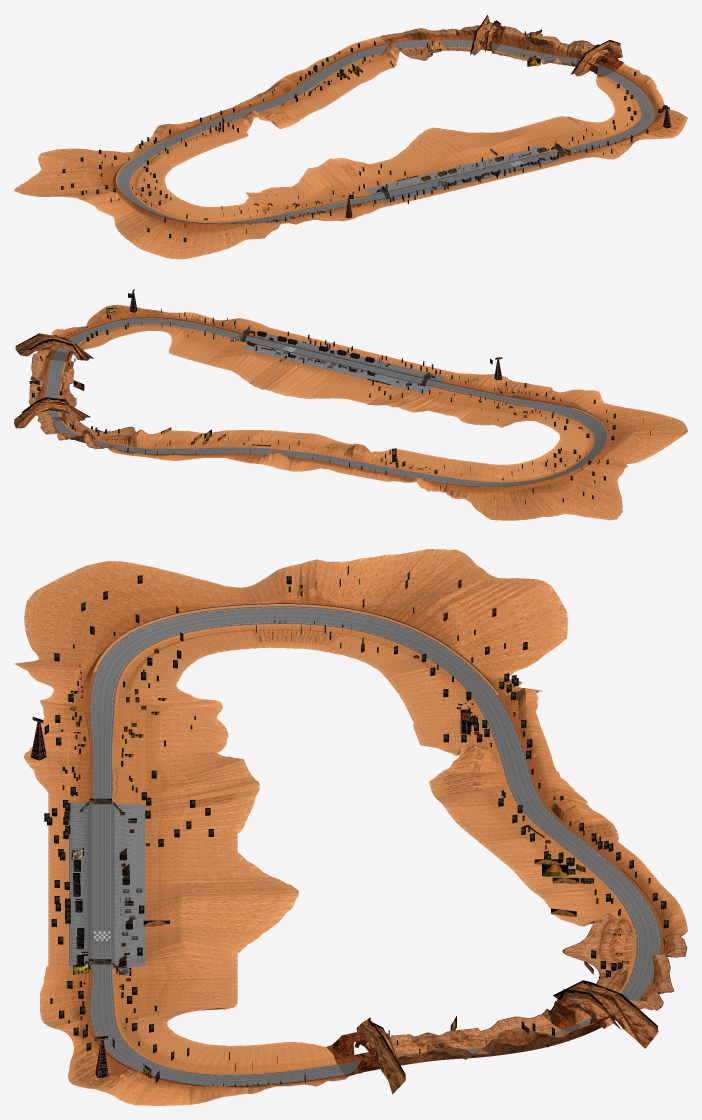
Rendered from rusty_springs.glb.
The picture shows the model from 3 angles, top to bottom: view 1: azimuth 30°, elevation 25°; view 2: azimuth 150°, elevation 25°; view 3: azimuth 270°, elevation 25°; orthographic projection. The views are drawn at different scales.
Parts seen in each view (by area): view 1: terrain_chunk_44_0_background/0/04C0, terrain_chunk_43_0_background/0/04C0, terrain_chunk_33_0_background/0/04C0, terrain_chunk_34_0_background/0/04C0, terrain_chunk_32_0_background/0/04C0, terrain_chunk_45_0_background/0/04C0, terrain_chunk_46_0_background/0/04C0, terrain_chunk_47_0_background/0/04C0, terrain_chunk_4_9_background/0/05C0, terrain_chunk_31_0_background/0/04C0; view 2: terrain_chunk_43_0_background/0/04C0, terrain_chunk_42_0_background/0/04C0, terrain_chunk_44_0_background/0/04C0, terrain_chunk_35_0_background/0/04C0, terrain_chunk_47_0_background/0/04C0, terrain_chunk_46_0_background/0/04C0, terrain_chunk_45_0_background/0/04C0, terrain_chunk_48_0_background/0/04C0, terrain_chunk_41_0_background/0/04C0, terrain_chunk_36_0_background/0/04C0, prop_334_lite, terrain_chunk_4_9_background/0/05C0 (+2 smaller); view 3: terrain_chunk_47_0_background/0/04C0, terrain_chunk_43_0_background/0/04C0, terrain_chunk_46_0_background/0/04C0, terrain_chunk_42_0_background/0/04C0, terrain_chunk_48_0_background/0/04C0, terrain_chunk_34_0_background/0/04C0, terrain_chunk_33_0_background/0/04C0, terrain_chunk_32_0_background/0/04C0, terrain_chunk_44_0_background/0/04C0, terrain_chunk_2_9_background/0/05C0, terrain_chunk_3_9_background/0/05C0, terrain_chunk_45_0_background/0/04C0 (+10 smaller).
Part boxes in pixels (bbox=[...]): terrain_chunk_44_0_background/0/04C0: bbox=[16, 173, 89, 187]; terrain_chunk_43_0_background/0/04C0: bbox=[14, 183, 97, 195]; terrain_chunk_33_0_background/0/04C0: bbox=[150, 231, 182, 258]; terrain_chunk_34_0_background/0/04C0: bbox=[133, 225, 167, 252]; terrain_chunk_32_0_background/0/04C0: bbox=[171, 235, 198, 259]; terrain_chunk_45_0_background/0/04C0: bbox=[35, 163, 90, 175]; terrain_chunk_46_0_background/0/04C0: bbox=[38, 153, 102, 167]; terrain_chunk_47_0_background/0/04C0: bbox=[42, 149, 116, 166]; terrain_chunk_4_9_background/0/05C0: bbox=[422, 128, 460, 156]; terrain_chunk_31_0_background/0/04C0: bbox=[195, 233, 215, 257]; terrain_chunk_43_0_background/0/04C0: bbox=[568, 484, 622, 520]; terrain_chunk_42_0_background/0/04C0: bbox=[575, 473, 622, 507]; terrain_chunk_44_0_background/0/04C0: bbox=[556, 490, 609, 520]; terrain_chunk_35_0_background/0/04C0: bbox=[622, 435, 683, 446]; terrain_chunk_47_0_background/0/04C0: bbox=[506, 495, 535, 520]; terrain_chunk_46_0_background/0/04C0: bbox=[522, 493, 556, 518]; terrain_chunk_45_0_background/0/04C0: bbox=[539, 492, 578, 515]; terrain_chunk_48_0_background/0/04C0: bbox=[491, 494, 511, 520]; terrain_chunk_41_0_background/0/04C0: bbox=[578, 464, 619, 486]; terrain_chunk_36_0_background/0/04C0: bbox=[612, 445, 666, 456]; prop_334_lite: bbox=[16, 403, 85, 428]; terrain_chunk_4_9_background/0/05C0: bbox=[272, 369, 312, 394]; terrain_chunk_47_0_background/0/04C0: bbox=[461, 587, 566, 649]; terrain_chunk_43_0_background/0/04C0: bbox=[370, 549, 465, 604]; terrain_chunk_46_0_background/0/04C0: bbox=[452, 578, 551, 630]; terrain_chunk_42_0_background/0/04C0: bbox=[339, 551, 413, 605]; terrain_chunk_48_0_background/0/04C0: bbox=[460, 612, 567, 659]; terrain_chunk_34_0_background/0/04C0: bbox=[69, 561, 161, 600]; terrain_chunk_33_0_background/0/04C0: bbox=[37, 573, 128, 611]; terrain_chunk_32_0_background/0/04C0: bbox=[25, 590, 103, 626]; terrain_chunk_44_0_background/0/04C0: bbox=[402, 554, 485, 601]; terrain_chunk_2_9_background/0/05C0: bbox=[181, 903, 293, 918]; terrain_chunk_3_9_background/0/05C0: bbox=[181, 893, 298, 905]; terrain_chunk_45_0_background/0/04C0: bbox=[434, 572, 517, 610].
Bounding box in the file's own units: 1465 × 143 × 761.
84 materials, 84 textured.
